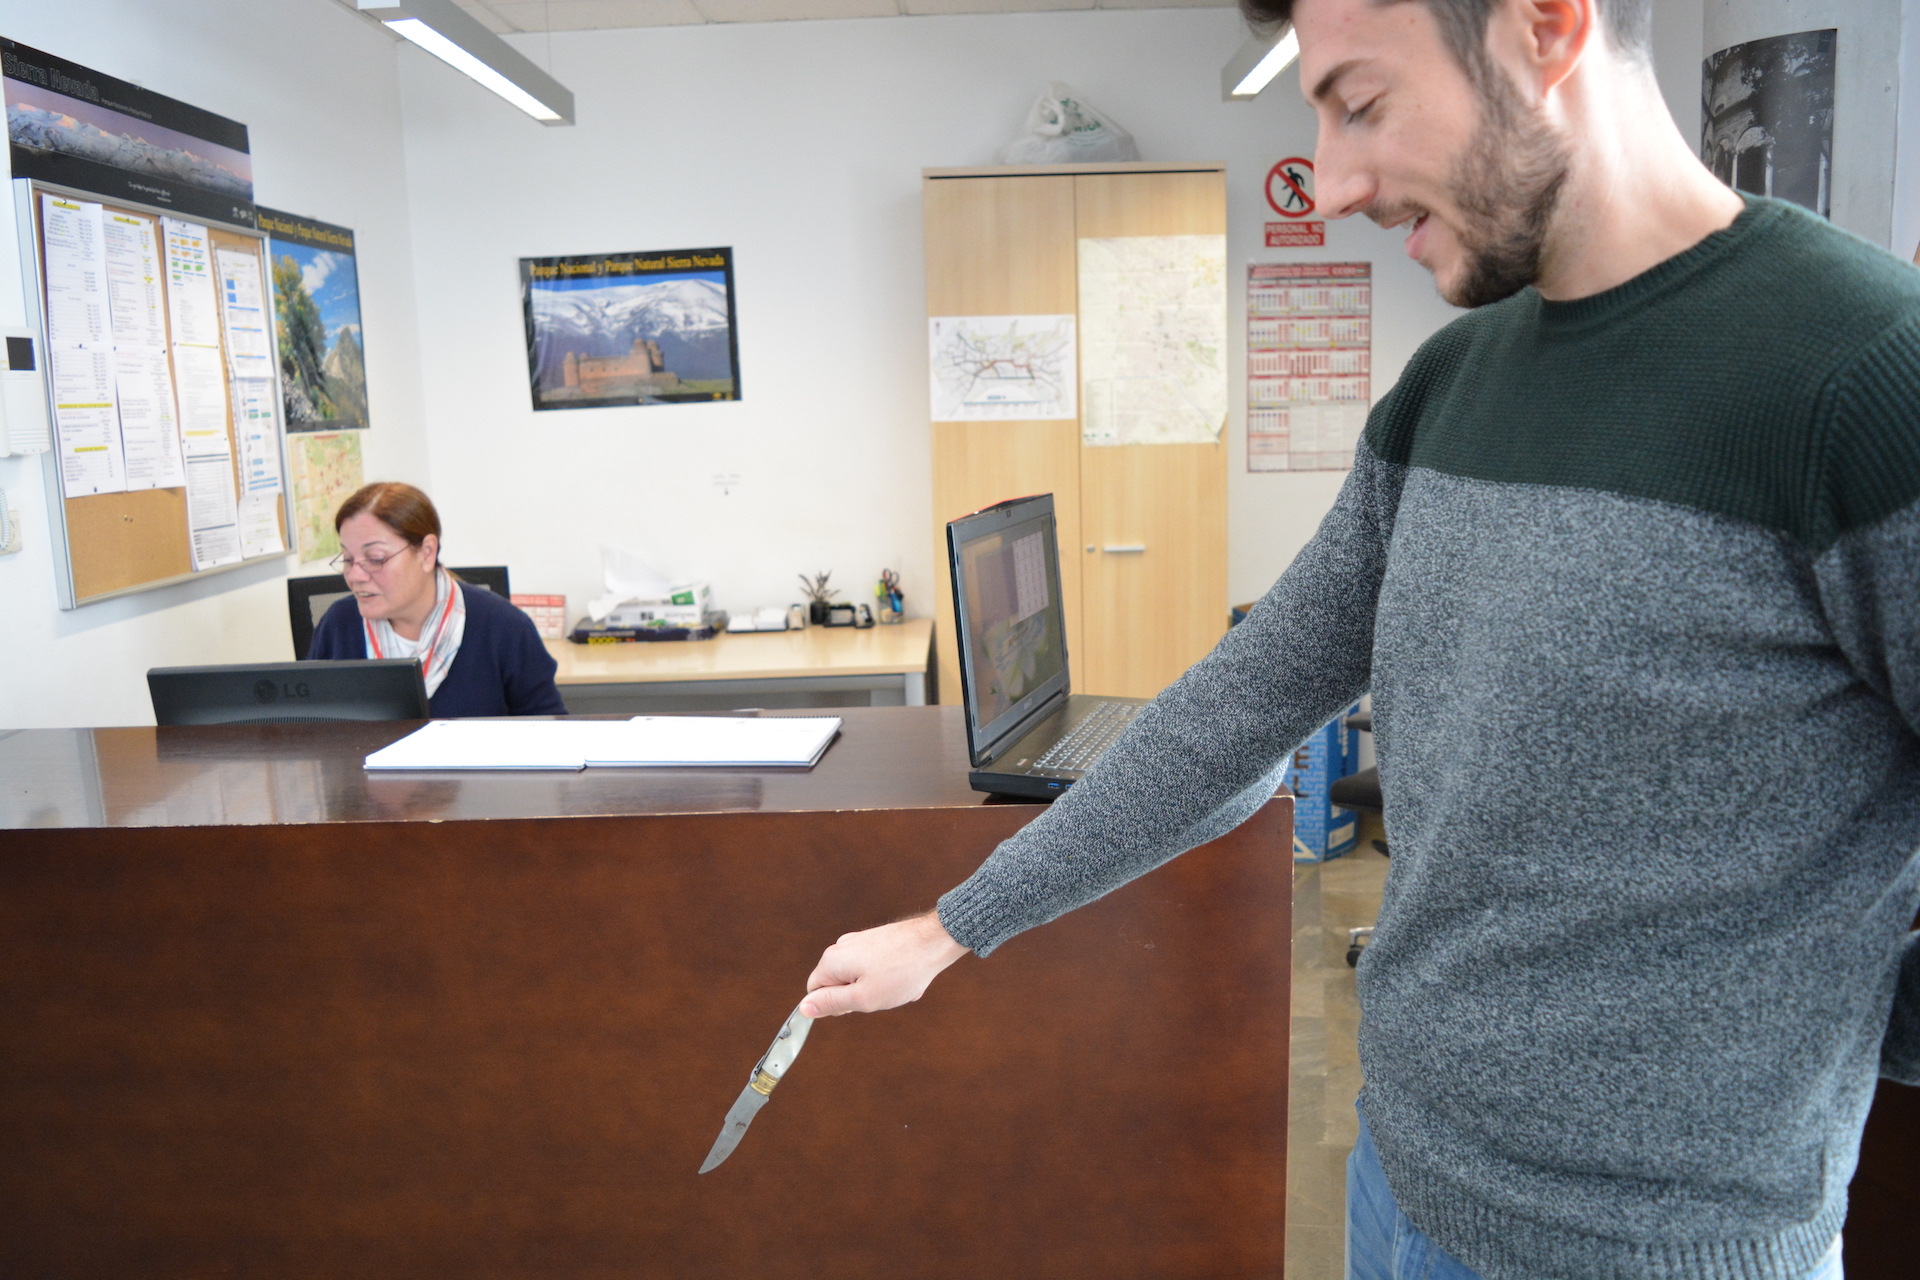knife: (683, 969, 840, 1189)
